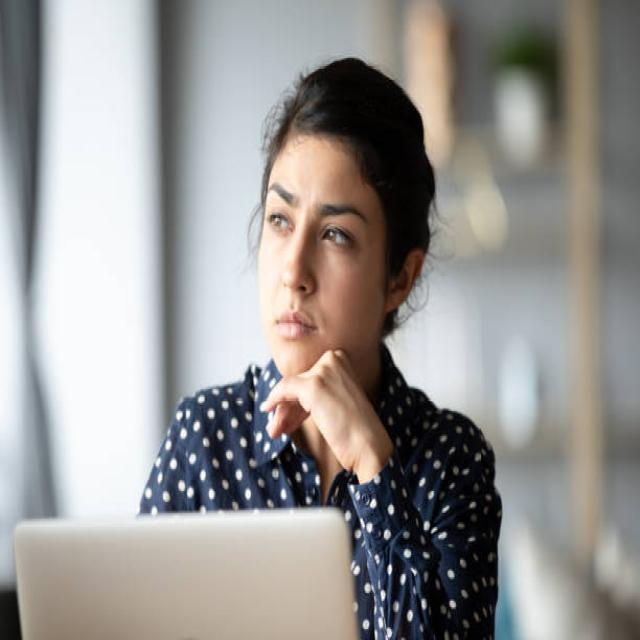Looking away: (262, 134, 381, 376)
